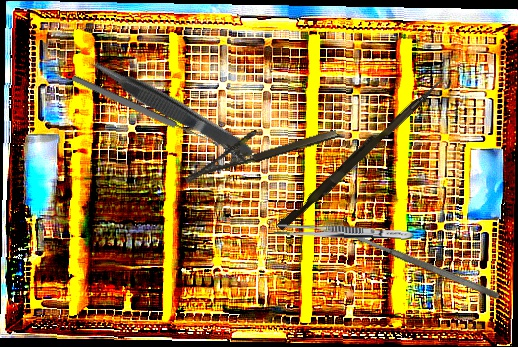Dressing Forceps: (273, 223, 415, 242)
Needle Holder: (177, 108, 339, 184)
Pusher: (276, 74, 442, 236)
Spatula Surgical: (340, 225, 501, 302)
Surgical Spoon: (70, 73, 221, 150)
Tissue Forceps: (86, 51, 257, 166)
